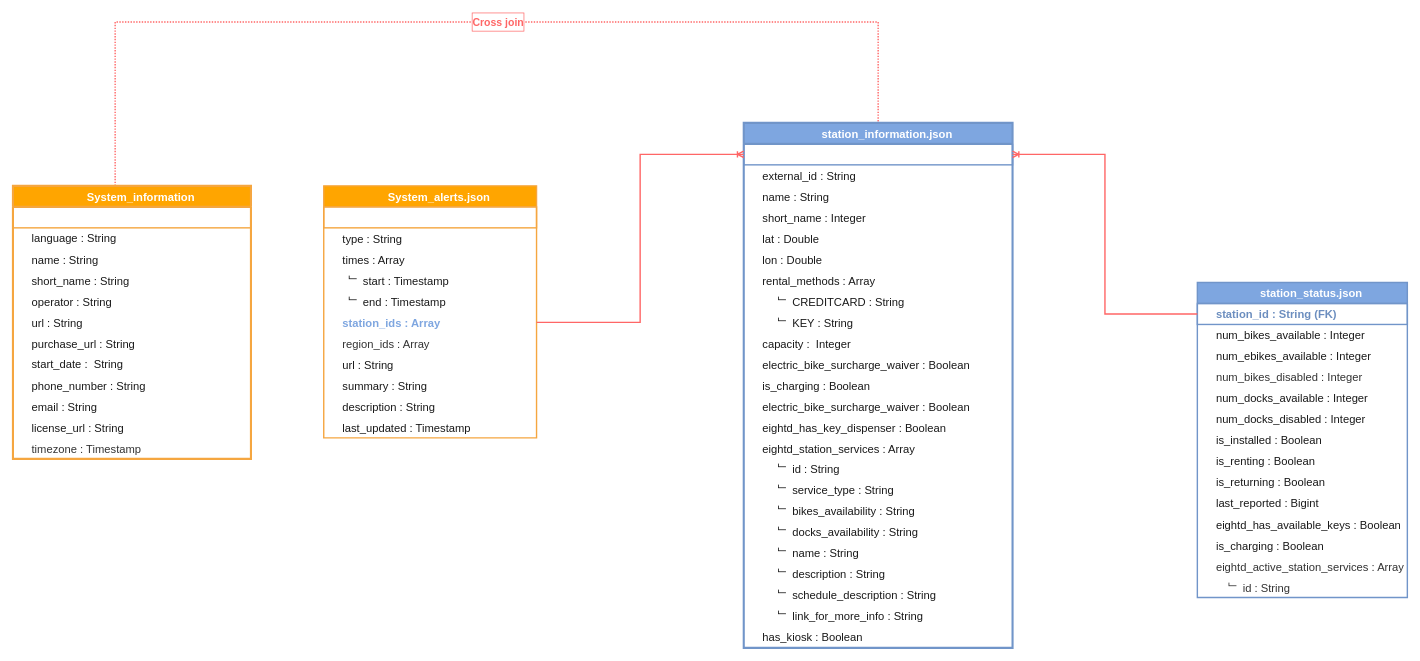
The diagram is 1420 pixels wide and 661 high, and some of its shapes have lost their labels. Each missing label, with the centre of its shape:
alert_id : String (PK): (x=430, y=217)
station_id : String (PK) (FK): (x=878, y=154)
system_id : String (PK): (x=131, y=217)
